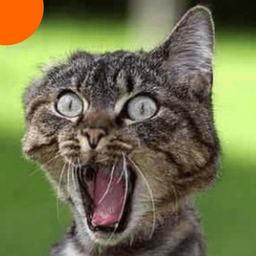cat: (21, 4, 228, 251)
